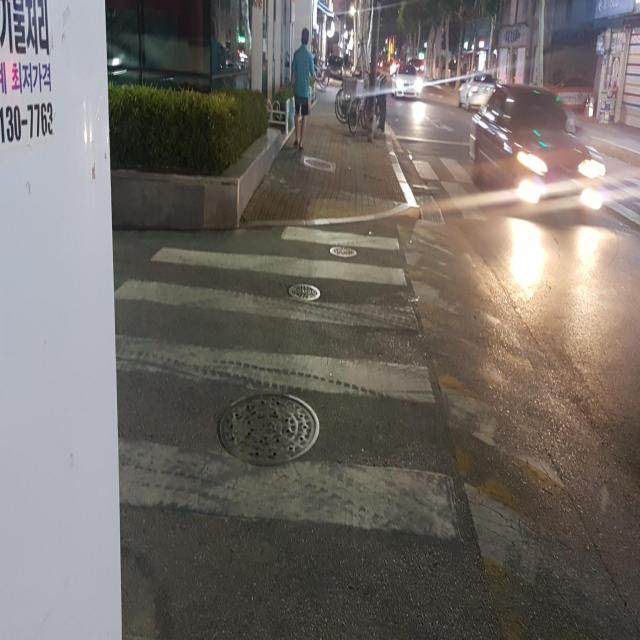횡단보도: (111, 219, 462, 540)
